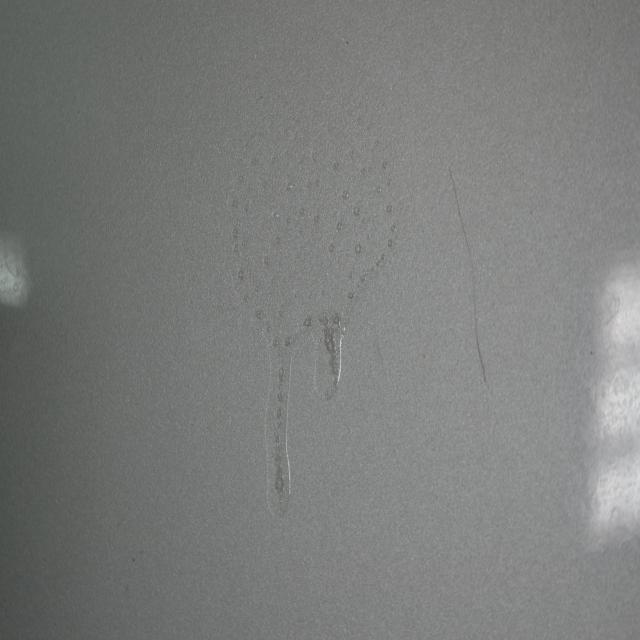runs: (231, 102, 418, 520)
scratch: (442, 160, 492, 380)
